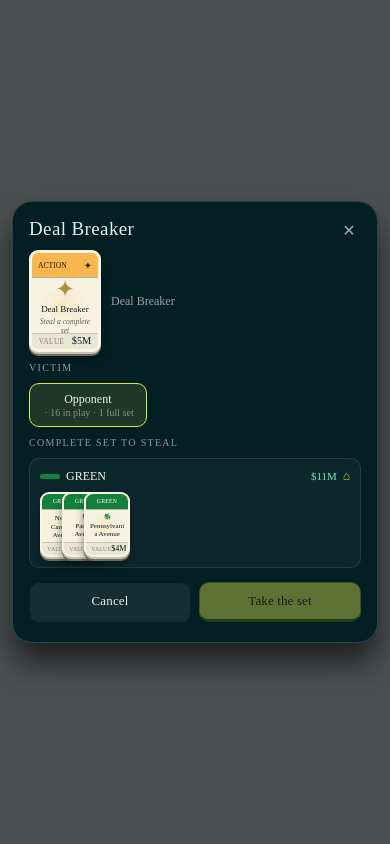
Test case: <ActionDialog /> Visual Clarity › renders Deal Breaker complete set inspector showing cards, rent, and house/hotel icons
expect the text "· 16 in play · 1 full set" is shown: met, box [42,407,134,418]
expect the text "Complete set to steal" is shown: met, box [29,437,178,448]
// Tap on the green complete set
Click the button with test id "complete-set-green".
click(86, 476)  # box [29,458,361,568]
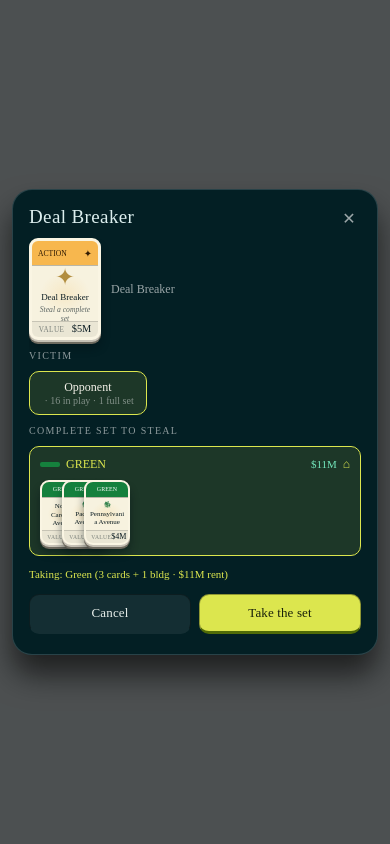
expect the text "Taking: Green (3 cards + 1 bldg · $11M rent)" is shown: met, box [29,568,228,580]
